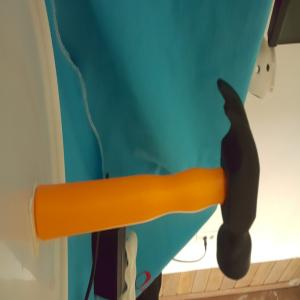martelo: (31, 77, 262, 282)
